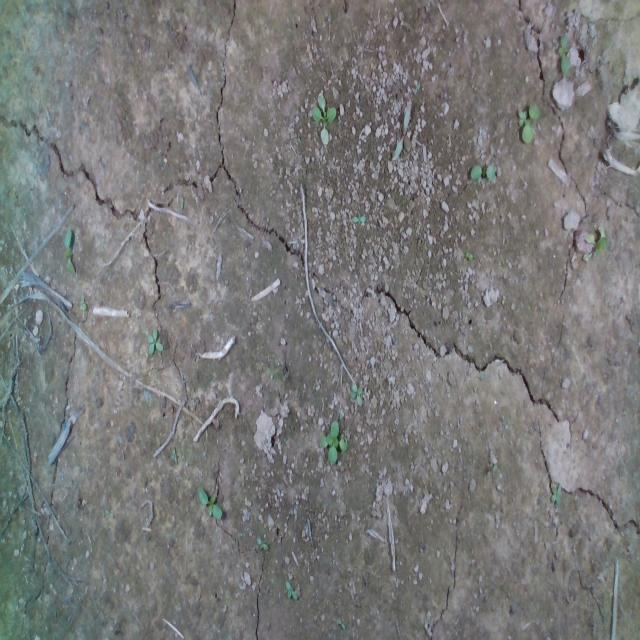weed: (311, 94, 337, 146), (320, 416, 347, 465), (516, 101, 542, 144), (195, 482, 222, 514), (64, 226, 76, 276), (558, 33, 572, 74), (145, 327, 163, 357), (469, 161, 497, 179), (350, 384, 364, 404)
